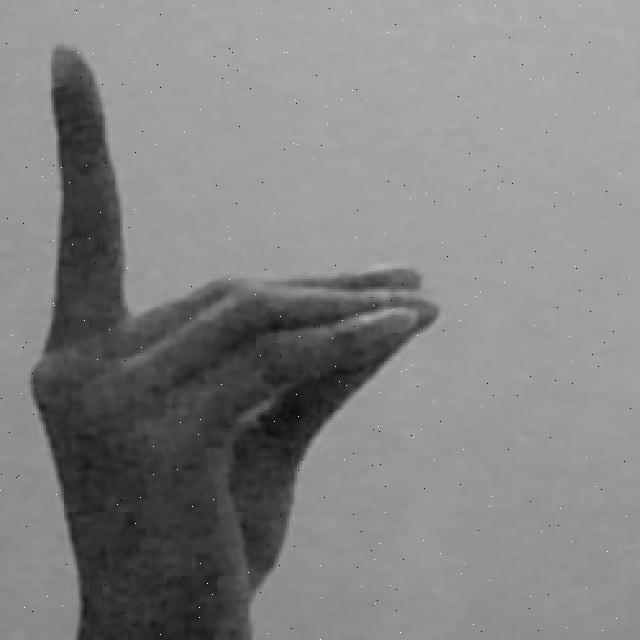D: (26, 40, 438, 640)
